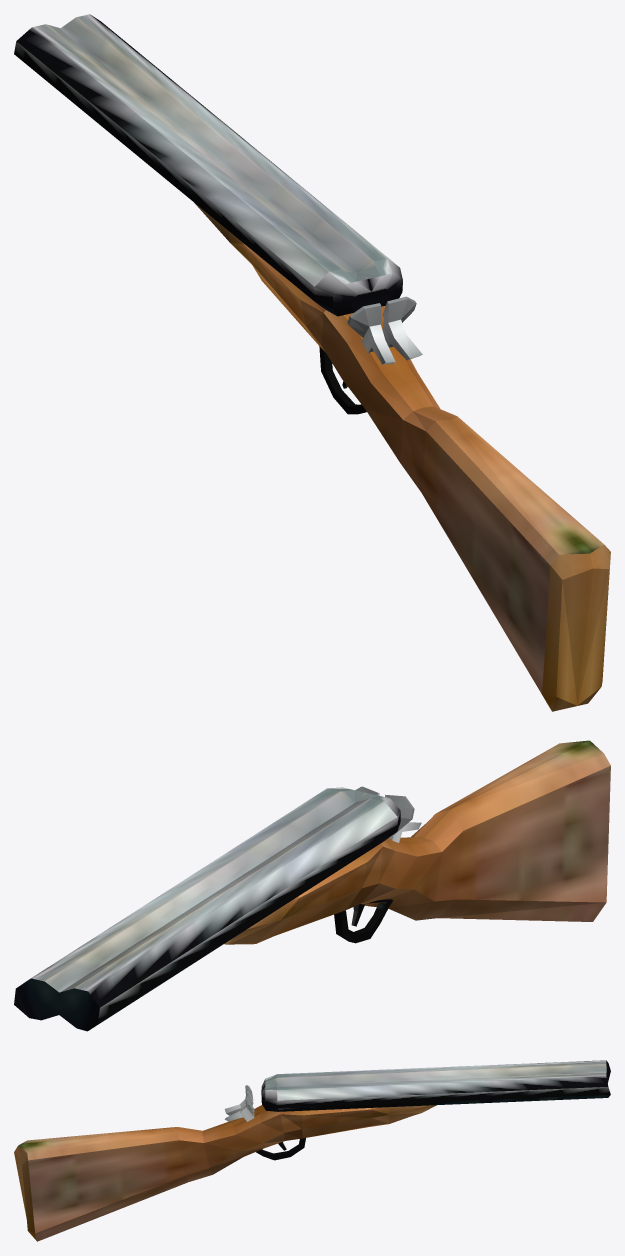
Rendered from shoot0027.obj.
The picture shows the model from 3 angles, top to bottom: view 1: azimuth 30°, elevation 25°; view 2: azimuth 150°, elevation 25°; view 3: azimuth 270°, elevation 25°; orthographic projection. The views are drawn at different scales.
Parts seen in each view (by area): view 1: Cube, Cube.001, Cube.003, Cube.002; view 2: Cube, Cube.001, Cube.002, Cube.003; view 3: Cube, Cube.001, Cube.003, Cube.002.
Boxes of the visible parts, x1,y1,x2,y2 form: Cube: (194,203,610,711); Cube.001: (14,14,402,316); Cube.003: (347,296,422,364); Cube.002: (319,346,366,414); Cube: (224,740,610,944); Cube.001: (14,787,400,1031); Cube.002: (334,899,392,943); Cube.003: (355,786,421,842); Cube: (14,1105,436,1241); Cube.001: (261,1060,610,1111); Cube.003: (224,1085,254,1121); Cube.002: (256,1138,305,1160).
Size of the model in its own units: 0.2086 by 0.711 by 2.26.
Materials: 1 (1 with a texture image).
